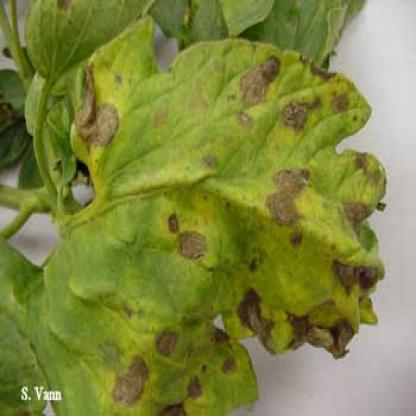tomato early blight leaf: (42, 28, 385, 414)
